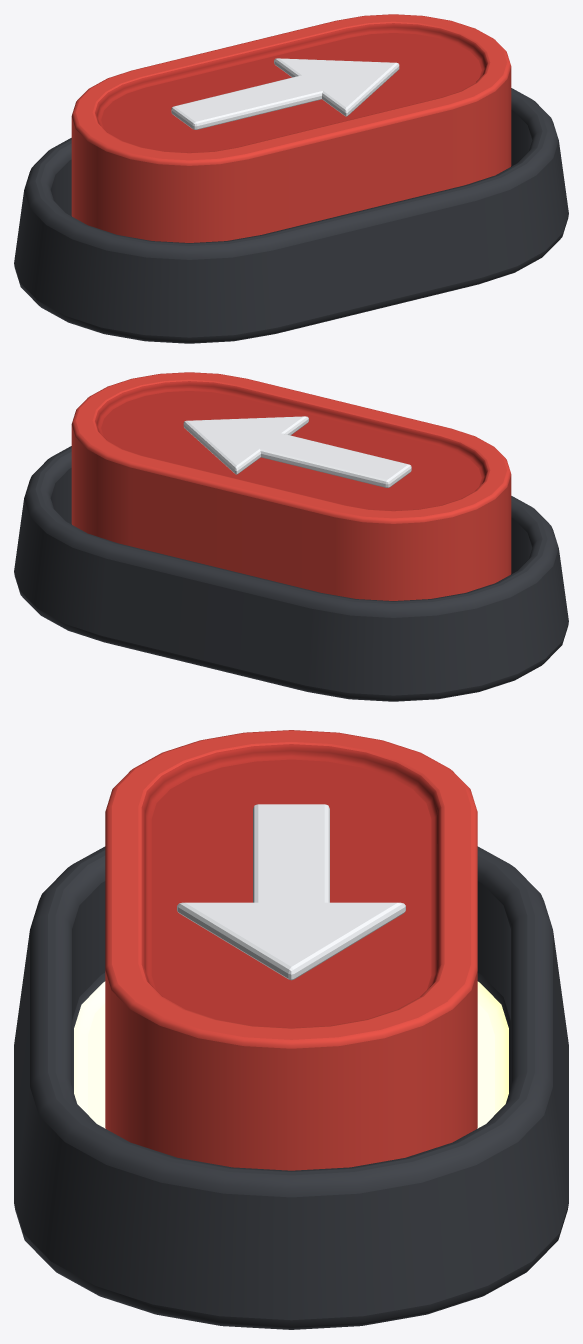
File: ArrowButton.fbx
3 views of the same model, one above another, from view 1: azimuth 30°, elevation 25°; view 2: azimuth 150°, elevation 25°; view 3: azimuth 270°, elevation 25° (orthographic). The views are drawn at different scales.
Parts seen in each view (by area): view 1: ArrowButton_Cap, ArrowButton_Base; view 2: ArrowButton_Cap, ArrowButton_Base; view 3: ArrowButton_Cap, ArrowButton_Base.
Boxes of the visible parts, x1,y1,x2,y2 form: ArrowButton_Cap: (71, 14, 511, 242); ArrowButton_Base: (14, 88, 568, 343); ArrowButton_Cap: (71, 372, 511, 600); ArrowButton_Base: (14, 446, 568, 701); ArrowButton_Cap: (105, 730, 477, 1170); ArrowButton_Base: (14, 846, 568, 1329).
Bounding box in the file's own units: 0.0697 × 0.021 × 0.0417.
